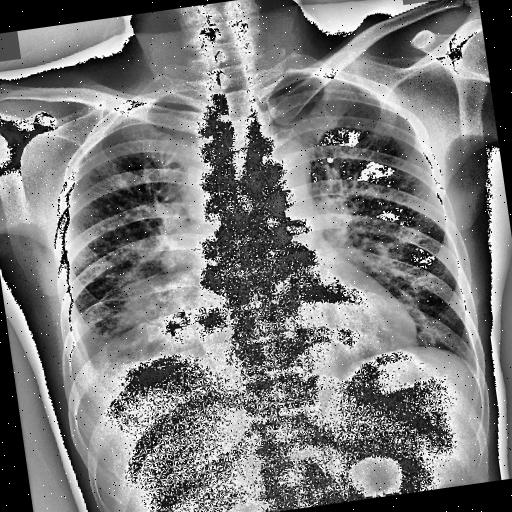0- Aortic enlargement: (238, 134, 316, 200)
10- Pleural effusion: (53, 297, 178, 423), (58, 319, 134, 421), (62, 312, 112, 402)
11- Pleural thickening: (62, 312, 112, 402)
13- Pulmonary fibrosis: (75, 299, 132, 361)
3- Cardiomegaly: (190, 270, 422, 380)
4- Consolidation: (110, 208, 210, 355), (112, 264, 212, 360), (116, 270, 220, 358), (135, 195, 215, 276)
7- Lung Opacity: (68, 234, 178, 378), (112, 264, 212, 360), (135, 195, 215, 276), (75, 299, 132, 361)
8- Nodule-Mass: (116, 270, 220, 358)
9- Other lesion: (135, 195, 215, 276), (174, 122, 230, 224)
